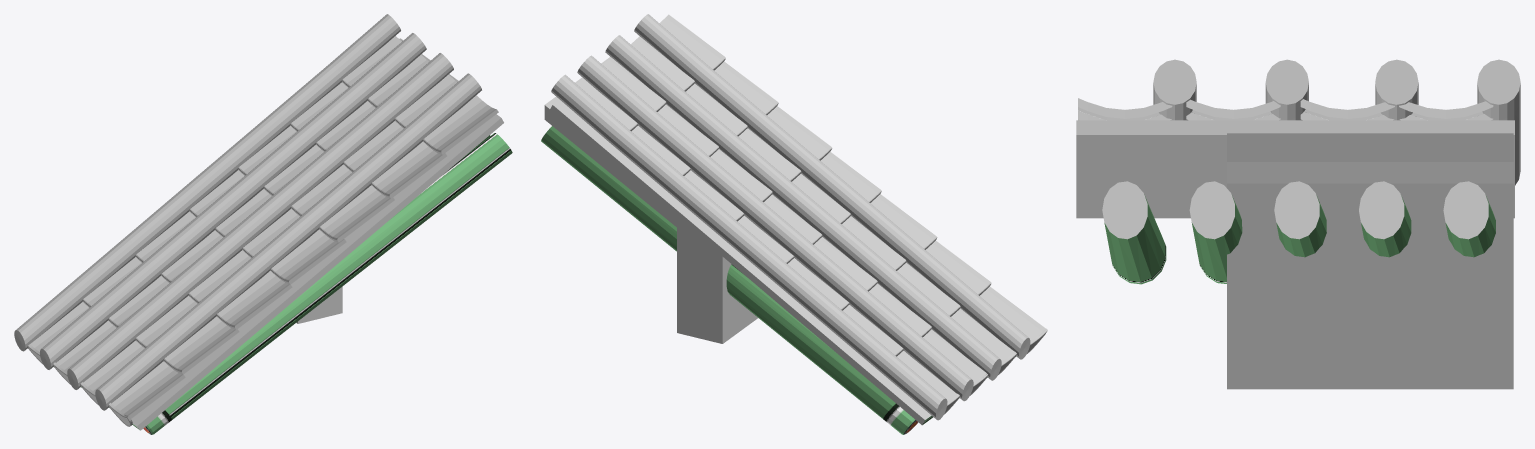
File: SM_Roof_33.fbx
3 views of the same model, side by side, from view 1: azimuth 30°, elevation 25°; view 2: azimuth 150°, elevation 25°; view 3: azimuth 270°, elevation 25° (orthographic). The views are drawn at different scales.
Visible parts, largest first — view 1: SM_Roof_33_LOD0; view 2: SM_Roof_33_LOD0; view 3: SM_Roof_33_LOD0.
Part boxes in pixels (x1,y1,x2,y2): SM_Roof_33_LOD0: (14,14,512,434); SM_Roof_33_LOD0: (541,14,1047,434); SM_Roof_33_LOD0: (1076,59,1520,389).
Size of the model in its own units: 314 by 152 by 205.
